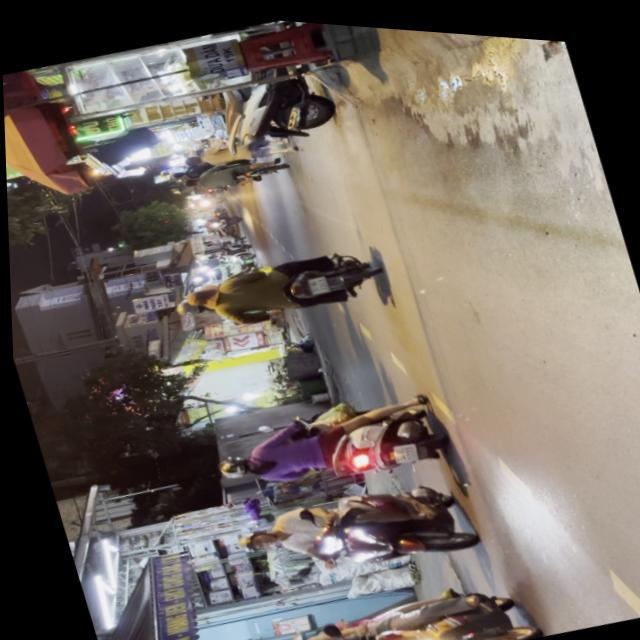helmet: (228, 522, 277, 556), (212, 451, 253, 482), (170, 292, 208, 320)
licenseplate: (219, 451, 481, 606), (199, 368, 454, 517), (161, 226, 385, 348), (249, 551, 538, 640)
motorcyclist: (180, 278, 223, 310), (263, 637, 308, 640)
nohelmet: (386, 436, 414, 460), (304, 270, 327, 291)
